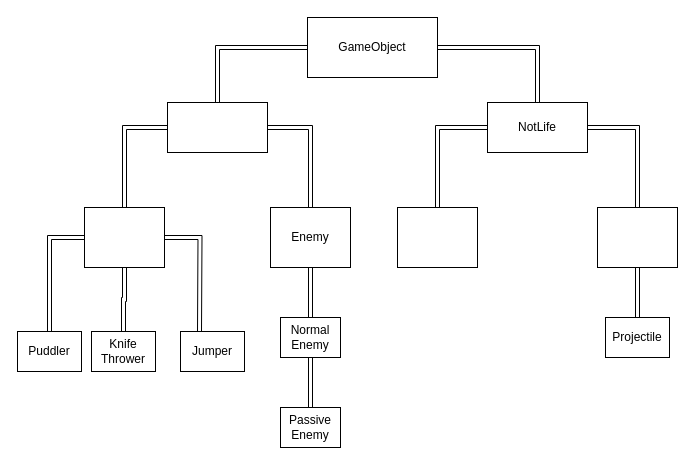
Image size: 695x465. Some labels were removed from this diagram. Here are the shapes that lost their labels. From the top down, the centre of each, then its label:
(217,127): Life
(124,237): Player Character
(437,237): Interactive Item
(637,237): Non interactive Item
